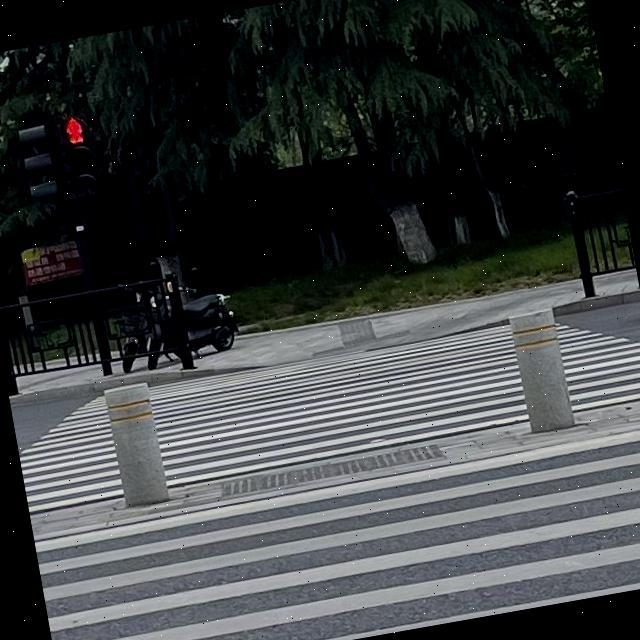curb: (34, 424, 640, 542), (9, 364, 268, 405), (368, 318, 508, 349), (557, 292, 640, 315)
